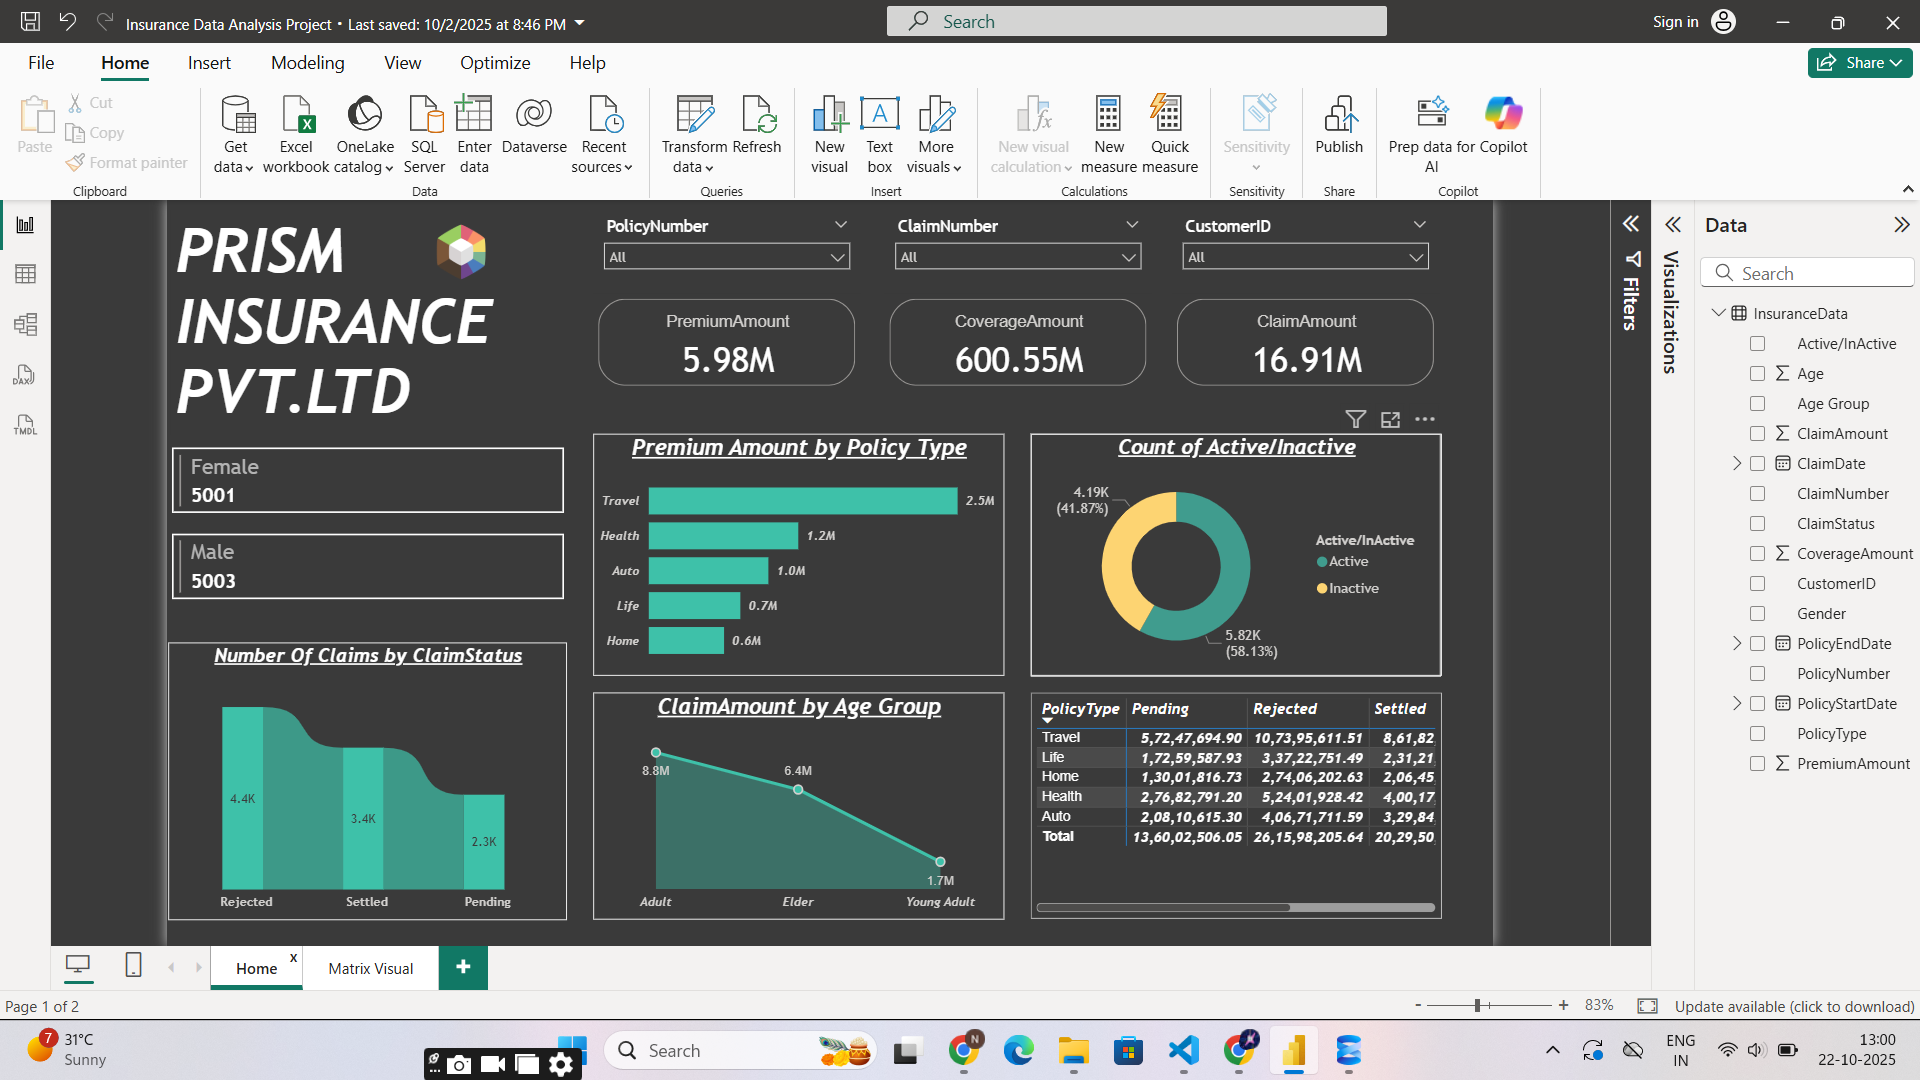

Layout of this report page (visuals, bound fields, positions):
{"tool":"powerbi","page":{"name":"Home","canvas":[1280,720],"ordinal":0},"visuals":[{"type":"slicer","fields":{"Values":["InsuranceData.PolicyNumber"]},"box":[411.9,10.7,258.3,79.8],"z":0},{"type":"slicer","fields":{"Values":["InsuranceData.ClaimNumber"]},"box":[692.9,10.7,258.3,79.8],"z":1000},{"type":"slicer","fields":{"Values":["InsuranceData.CustomerID"]},"box":[970.2,10.7,258.3,79.8],"z":2000},{"type":"textbox","box":[75,110,300,150],"z":3000},{"type":"textbox","box":[0,260,150,269],"z":4000},{"type":"textbox","box":[0,539,150,181],"z":5000},{"type":"textbox","box":[3.2,9.6,372.3,217],"z":6000},{"type":"cardVisual","fields":{"Data":["Sum(InsuranceData.PremiumAmount)"]},"box":[411.9,90.5,258.3,94],"z":7000},{"type":"cardVisual","fields":{"Data":["Sum(InsuranceData.CoverageAmount)"]},"box":[692.5,90.5,258.2,94.1],"z":8000},{"type":"cardVisual","fields":{"Data":["Sum(InsuranceData.ClaimAmount)"]},"box":[971.4,91.7,258.3,94],"z":9000},{"type":"multiRowCard","fields":{"Values":["InsuranceData.Gender","CountNonNull(InsuranceData.Gender)"]},"box":[0,234.5,388.1,181],"z":10000},{"type":"ribbonChart","title":" Number Of Claims by ClaimStatus","fields":{"Category":["InsuranceData.ClaimStatus"],"Y":["CountNonNull(InsuranceData.ClaimStatus)"]},"box":[1.2,427.1,384.9,267.8],"z":11000},{"type":"barChart","title":"Premium Amount by Policy Type","fields":{"Category":["InsuranceData.PolicyType"],"Y":["Sum(InsuranceData.PremiumAmount)"]},"box":[411.9,226.2,396.4,233.3],"z":12000},{"type":"lineChart","title":"ClaimAmount by Age Group","fields":{"Category":["InsuranceData.Age Group"],"Y":["Sum(InsuranceData.ClaimAmount)"]},"box":[411.9,475,396.4,219],"z":13000},{"type":"donutChart","title":"Count of Active/Inactive ","fields":{"Category":["InsuranceData.Active/InActive"],"Y":["CountNonNull(InsuranceData.Active/InActive)"]},"box":[833.3,226.2,396.4,233.3],"z":14000},{"type":"pivotTable","fields":{"Rows":["InsuranceData.PolicyType"],"Columns":["InsuranceData.ClaimStatus"],"Values":["Sum(InsuranceData.CoverageAmount)"]},"box":[833.7,475.3,396.9,218.4],"z":15000},{"type":"image","box":[207.5,16.9,153.2,66.4],"z":16000}]}

Visuals, with their boxes on the page's 1280x720 design canvas (x1, y1, x2, y2). These are canvas units, not pixel positions in the 1920x1080 screenshot, which may show the page scaled, cropped or inside an application window:
slicer - InsuranceData.PolicyNumber: 412 11 670 90
slicer - InsuranceData.ClaimNumber: 693 11 951 90
slicer - InsuranceData.CustomerID: 970 11 1228 90
textbox: 75 110 375 260
textbox: 0 260 150 529
textbox: 0 539 150 720
textbox: 3 10 376 227
cardVisual - Sum(InsuranceData.PremiumAmount): 412 90 670 184
cardVisual - Sum(InsuranceData.CoverageAmount): 692 90 951 185
cardVisual - Sum(InsuranceData.ClaimAmount): 971 92 1230 186
multiRowCard - InsuranceData.Gender x CountNonNull(InsuranceData.Gender): 0 234 388 416
" Number Of Claims by ClaimStatus" ribbonChart: 1 427 386 695
"Premium Amount by Policy Type" barChart: 412 226 808 460
"ClaimAmount by Age Group" lineChart: 412 475 808 694
"Count of Active/Inactive " donutChart: 833 226 1230 460
pivotTable - InsuranceData.PolicyType x InsuranceData.ClaimStatus: 834 475 1231 694
image: 208 17 361 83
